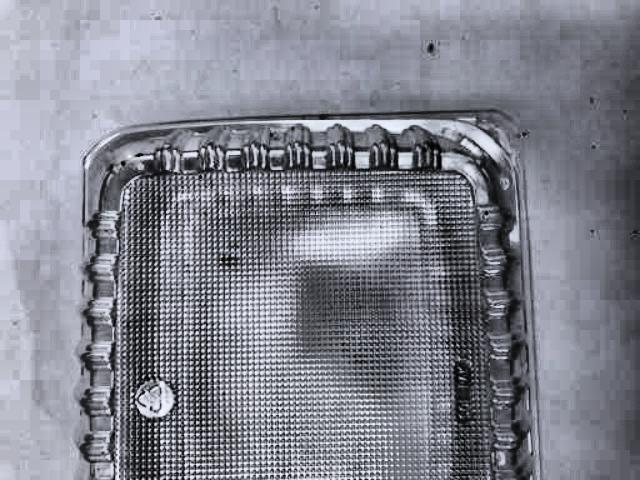Plastic: (72, 90, 562, 480)
